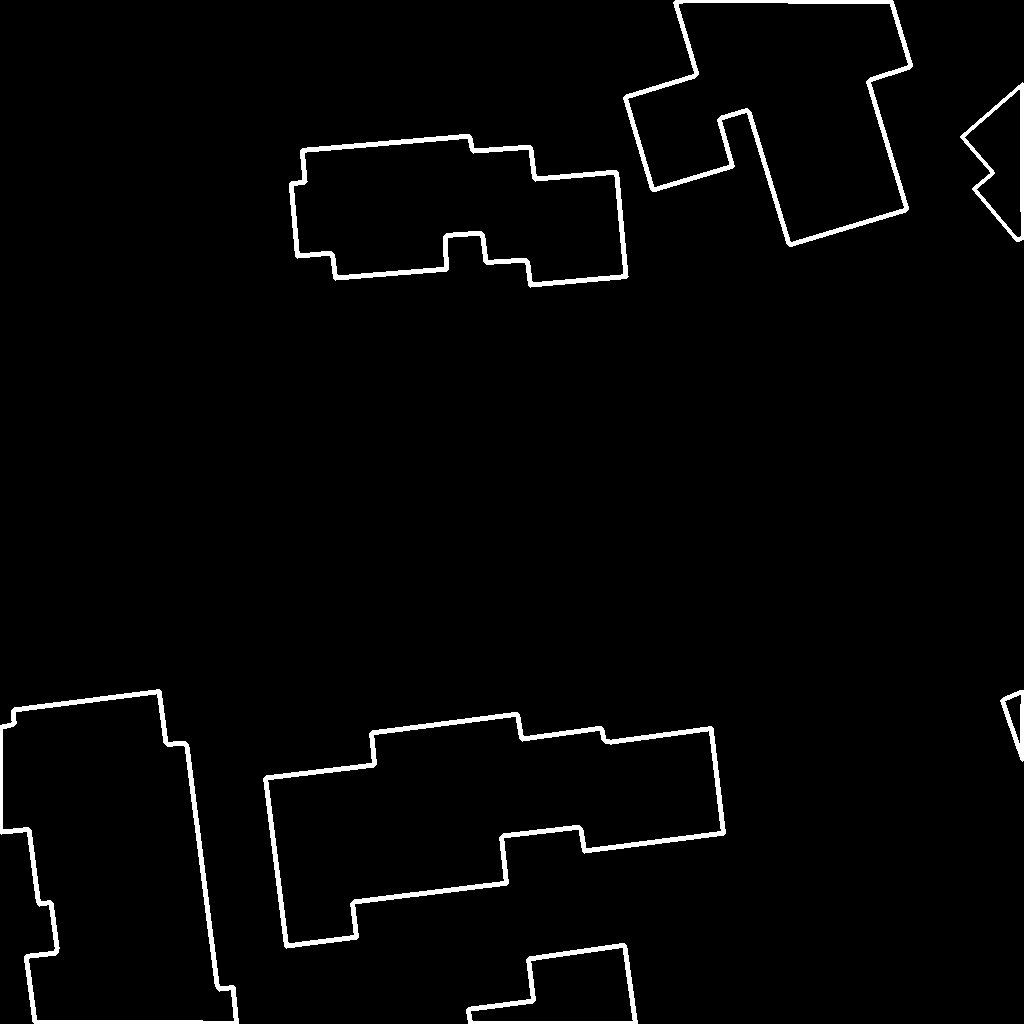building: (265, 714, 725, 947), (0, 691, 238, 1024), (625, 0, 912, 246), (291, 136, 627, 286), (468, 945, 637, 1024), (962, 84, 1024, 241), (1002, 692, 1024, 762)
